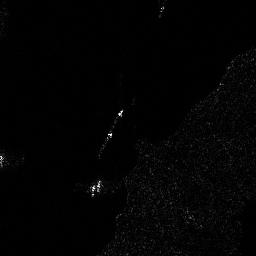ship: (106, 108, 123, 139)
